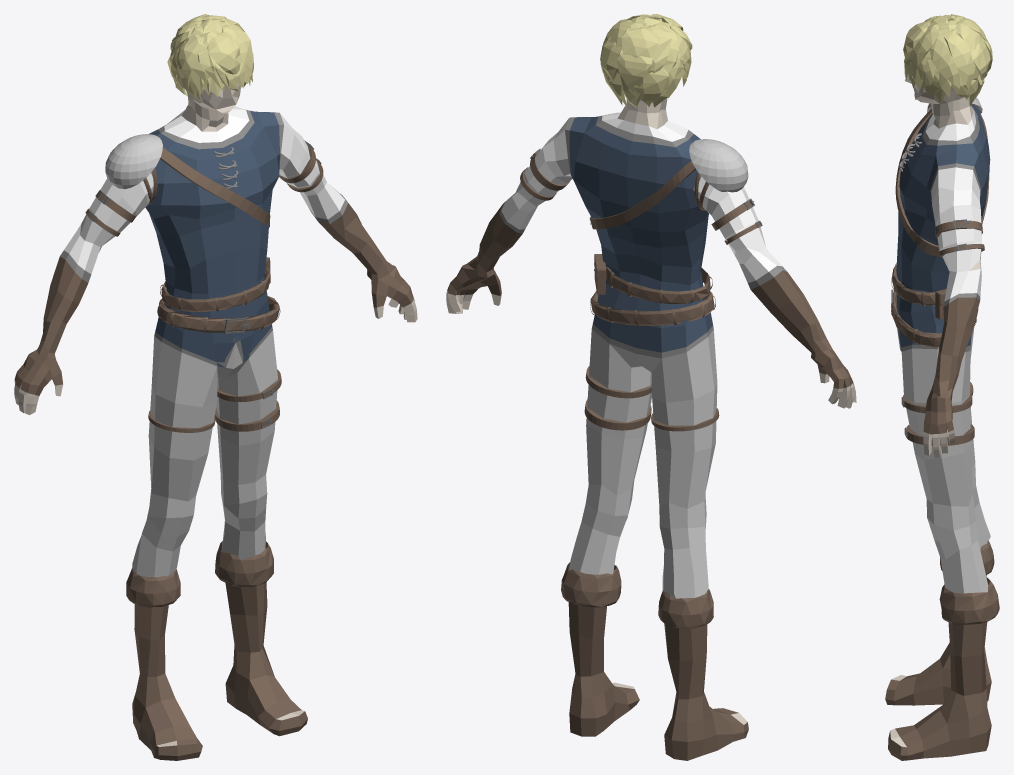
File: Character.fbx
3 views of the same model, side by side, from view 1: azimuth 30°, elevation 25°; view 2: azimuth 150°, elevation 25°; view 3: azimuth 270°, elevation 25° (orthographic).
Visible parts, largest first — view 1: initialShadingGroup_Mesh, 球体, 圆环_3, 圆环_1_2, 圆环_2, 放样, 圆环_2_4; view 2: initialShadingGroup_Mesh, 球体, 圆环_3, 圆环_1_2, 圆环_2, 圆环_2_4, 放样, 圆柱_2; view 3: initialShadingGroup_Mesh, 圆环_3, 放样, 圆环_1_2, 圆环_2_4, 圆柱_2, 圆柱_2_2, 圆柱_1, 圆环_2, 圆柱_3.
Boxes of the visible parts, left/top/right/bottom form: initialShadingGroup_Mesh: left=14, top=14, right=417, bottom=760; 球体: left=105, top=134, right=162, bottom=189; 圆环_3: left=215, top=541, right=273, bottom=586; 圆环_1_2: left=158, top=296, right=279, bottom=332; 圆环_2: left=126, top=567, right=180, bottom=607; 放样: left=160, top=147, right=270, bottom=227; 圆环_2_4: left=161, top=267, right=270, bottom=311; initialShadingGroup_Mesh: left=446, top=14, right=856, bottom=760; 球体: left=689, top=139, right=748, bottom=192; 圆环_3: left=561, top=562, right=621, bottom=607; 圆环_1_2: left=590, top=291, right=714, bottom=325; 圆环_2: left=658, top=589, right=713, bottom=628; 圆环_2_4: left=606, top=266, right=710, bottom=304; 放样: left=589, top=160, right=695, bottom=229; 圆柱_2: left=584, top=399, right=651, bottom=430; initialShadingGroup_Mesh: left=885, top=14, right=992, bottom=760; 圆环_3: left=939, top=577, right=999, bottom=625; 放样: left=895, top=103, right=989, bottom=256; 圆环_1_2: left=892, top=290, right=978, bottom=347; 圆环_2_4: left=892, top=265, right=935, bottom=305; 圆柱_2: left=906, top=424, right=974, bottom=445; 圆柱_2_2: left=935, top=220, right=982, bottom=237; 圆柱_1: left=902, top=394, right=972, bottom=413; 圆环_2: left=940, top=541, right=994, bottom=575; 圆柱_3: left=939, top=244, right=984, bottom=257.
Bounding box in the file's own units: 9.27 × 15.81 × 2.32.
